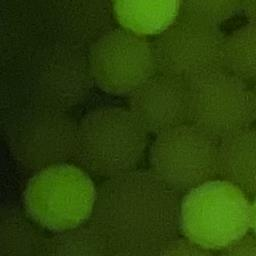negative: (98, 173, 179, 255), (184, 69, 256, 135), (153, 16, 227, 80), (83, 106, 146, 179), (149, 129, 222, 190), (11, 104, 80, 164), (89, 31, 156, 92), (129, 77, 191, 135), (0, 204, 48, 255), (222, 129, 256, 199), (222, 21, 256, 78), (180, 0, 242, 25), (45, 232, 104, 256), (156, 238, 213, 256)
positive: (23, 166, 96, 233), (179, 180, 249, 248), (111, 0, 180, 37)
